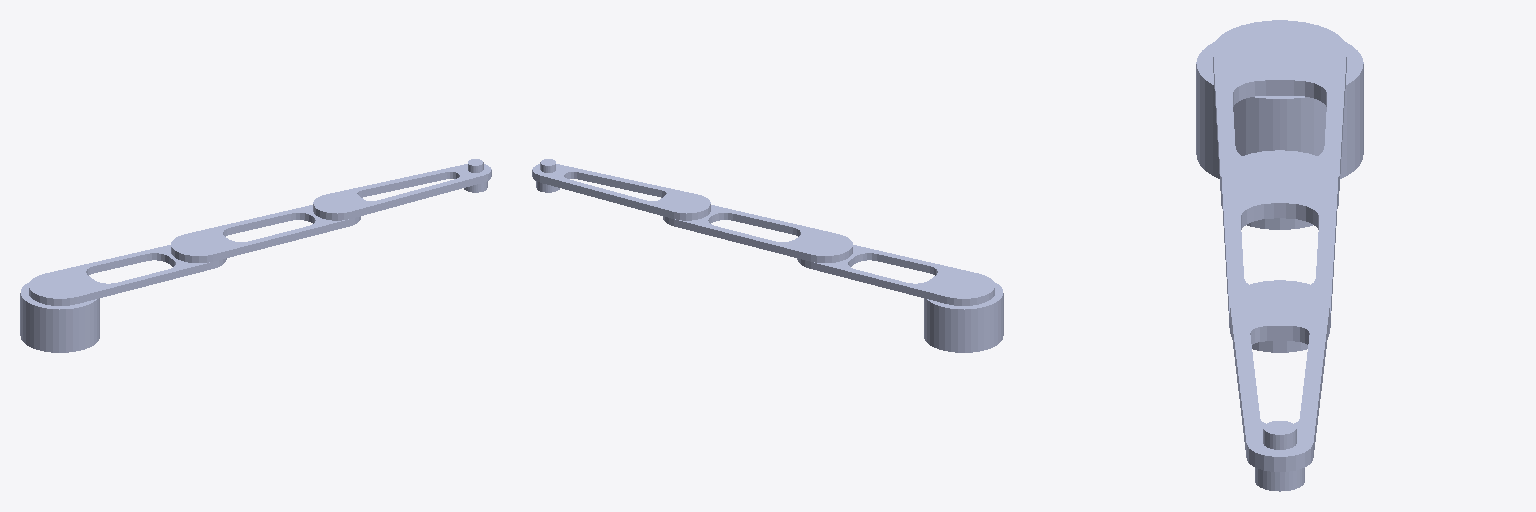
URDF robot description (three_links):
<?xml version="1.0" encoding="utf-8"?>
<!-- This URDF was automatically created by SolidWorks to URDF Exporter! Originally created by [author] ([email redacted]) 
     Commit Version: 1.5.1-0-g916b5db  Build Version: 1.5.7152.31018
     For more information, please see http://wiki.ros.org/sw_urdf_exporter -->
<robot
  name="three_links">
  <link
    name="base_link">
    <inertial>
      <origin
        xyz="-9.74542958129844E-19 0 0.03"
        rpy="0 0 0" />
      <mass
        value="0.471238898038469" />
      <inertia
        ixx="0.000435895980685584"
        ixy="0"
        ixz="-1.52551870759393E-36"
        iyy="0.000435895980685584"
        iyz="-1.36598121004842E-36"
        izz="0.000589048622548086" />
    </inertial>
    <visual>
      <origin
        xyz="0 0 0"
        rpy="0 0 0" />
      <geometry>
        <mesh
          filename="package://three_links/meshes/base_link.STL" />
      </geometry>
      <material
        name="">
        <color
          rgba="0.792156862745098 0.819607843137255 0.933333333333333 1" />
      </material>
    </visual>
    <collision>
      <origin
        xyz="0 0 0"
        rpy="0 0 0" />
      <geometry>
        <mesh
          filename="package://three_links/meshes/base_link.STL" />
      </geometry>
    </collision>
  </link>
  <link
    name="Link1">
    <inertial>
      <origin
        xyz="0.0913956355205956 -1.59622753367511E-18 0.005"
        rpy="0 0 0" />
      <mass
        value="0.13473452545241" />
      <inertia
        ixx="7.37451150071335E-05"
        ixy="-1.52859105184074E-20"
        ixz="-1.66880107710191E-21"
        iyy="0.00103353948460889"
        iyz="4.48504911956552E-22"
        izz="0.00110503902419182" />
    </inertial>
    <visual>
      <origin
        xyz="0 0 0"
        rpy="0 0 0" />
      <geometry>
        <mesh
          filename="package://three_links/meshes/Link1.STL" />
      </geometry>
      <material
        name="">
        <color
          rgba="0.792156862745098 0.819607843137255 0.933333333333333 1" />
      </material>
    </visual>
    <collision>
      <origin
        xyz="0 0 0"
        rpy="0 0 0" />
      <geometry>
        <mesh
          filename="package://three_links/meshes/Link1.STL" />
      </geometry>
    </collision>
  </link>
  <joint
    name="Joint1"
    type="revolute">
    <origin
      xyz="0 0 0.06"
      rpy="0 0 0" />
    <parent
      link="base_link" />
    <child
      link="Link1" />
    <axis
      xyz="0 0 1" />
    <limit
      lower="-3.14"
      upper="3.14"
      effort="0"
      velocity="0" />
  </joint>
  <link
    name="Link2">
    <inertial>
      <origin
        xyz="0.090869161726064 3.21554892524242E-18 0.005"
        rpy="0 0 0" />
      <mass
        value="0.110747393273271" />
      <inertia
        ixx="4.77883358034583E-05"
        ixy="-1.31010091129641E-20"
        ixz="-1.3163636453894E-21"
        iyy="0.000799779347162625"
        iyz="-7.81927896001231E-23"
        izz="0.000845721893078195" />
    </inertial>
    <visual>
      <origin
        xyz="0 0 0"
        rpy="0 0 0" />
      <geometry>
        <mesh
          filename="package://three_links/meshes/Link2.STL" />
      </geometry>
      <material
        name="">
        <color
          rgba="0.792156862745098 0.819607843137255 0.933333333333333 1" />
      </material>
    </visual>
    <collision>
      <origin
        xyz="0 0 0"
        rpy="0 0 0" />
      <geometry>
        <mesh
          filename="package://three_links/meshes/Link2.STL" />
      </geometry>
    </collision>
  </link>
  <joint
    name="Joint2"
    type="revolute">
    <origin
      xyz="0.2 0 0.01"
      rpy="0 0 0" />
    <parent
      link="Link1" />
    <child
      link="Link2" />
    <axis
      xyz="0 0 1" />
    <limit
      lower="-3.14"
      upper="3.14"
      effort="0"
      velocity="0" />
  </joint>
  <link
    name="Link3">
    <inertial>
      <origin
        xyz="0.0756376742620836 1.24407015031345E-18 0.00499999999999999"
        rpy="0 0 0" />
      <mass
        value="0.0769154803979707" />
      <inertia
        ixx="2.30997386339273E-05"
        ixy="4.25848211964126E-21"
        ixz="3.63843143388111E-21"
        iyy="0.000449559139082496"
        iyz="2.82429819271251E-22"
        izz="0.000471376953043124" />
    </inertial>
    <visual>
      <origin
        xyz="0 0 0"
        rpy="0 0 0" />
      <geometry>
        <mesh
          filename="package://three_links/meshes/Link3.STL" />
      </geometry>
      <material
        name="">
        <color
          rgba="0.792156862745098 0.819607843137255 0.933333333333333 1" />
      </material>
    </visual>
    <collision>
      <origin
        xyz="0 0 0"
        rpy="0 0 0" />
      <geometry>
        <mesh
          filename="package://three_links/meshes/Link3.STL" />
      </geometry>
    </collision>
  </link>
  <joint
    name="Joint3"
    type="revolute">
    <origin
      xyz="0.2 0 0.01"
      rpy="0 0 0" />
    <parent
      link="Link2" />
    <child
      link="Link3" />
    <axis
      xyz="0 0 1" />
    <limit
      lower="-3.14"
      upper="3.14"
      effort="0"
      velocity="0" />
  </joint>
  <link
    name="gripper">
    <inertial>
      <origin
        xyz="1.11022302462516E-16 -2.41558513055394E-35 -0.000988372093023257"
        rpy="0 0 0" />
      <mass
        value="0.0168860605130451" />
      <inertia
        ixx="2.36996939984108E-06"
        ixy="1.80997399548307E-39"
        ixz="9.03298934946049E-23"
        iyy="2.36996939984108E-06"
        iyz="-6.89630791461946E-39"
        izz="1.50698272601885E-06" />
    </inertial>
    <visual>
      <origin
        xyz="0 0 0"
        rpy="0 0 0" />
      <geometry>
        <mesh
          filename="package://three_links/meshes/gripper.STL" />
      </geometry>
      <material
        name="">
        <color
          rgba="0.792156862745098 0.819607843137255 0.933333333333333 1" />
      </material>
    </visual>
    <collision>
      <origin
        xyz="0 0 0"
        rpy="0 0 0" />
      <geometry>
        <mesh
          filename="package://three_links/meshes/gripper.STL" />
      </geometry>
    </collision>
  </link>
  <joint
    name="gripper"
    type="fixed">
    <origin
      xyz="0.2 0 0"
      rpy="0 0 0" />
    <parent
      link="Link3" />
    <child
      link="gripper" />
    <axis
      xyz="0 0 0" />
  </joint>
</robot>

--- Render facts (derived) ---
The picture shows the robot from 3 angles, left to right: view 1: azimuth 30°, elevation 25°; view 2: azimuth 150°, elevation 25°; view 3: azimuth 270°, elevation 25°; orthographic projection.
Robot: three_links — 5 links, 4 joints (3 revolute, 1 fixed); root link base_link; default pose: all joints at 0.
Links seen in each view (by area): view 1: Link1, Link2, Link3, base_link; view 2: Link1, Link2, Link3, base_link; view 3: Link1, Link3, Link2, base_link, gripper.
Link boxes in pixels (box(x1,y1,x2,y2)): Link1: box(29, 245, 226, 305); Link2: box(171, 205, 360, 262); Link3: box(313, 164, 491, 220); base_link: box(20, 283, 99, 352); Link1: box(797, 245, 994, 305); Link2: box(663, 205, 852, 262); Link3: box(532, 164, 710, 220); base_link: box(924, 283, 1003, 352); Link1: box(1213, 20, 1346, 229); Link3: box(1230, 280, 1329, 471); Link2: box(1221, 150, 1338, 352); base_link: box(1196, 42, 1363, 178); gripper: box(1255, 421, 1304, 491).
Bounding box of the posed robot: 0.6697 × 0.0999 × 0.1 m (x, y, z).
5 mesh visuals loaded from 5 distinct referenced files (5 binary STL).